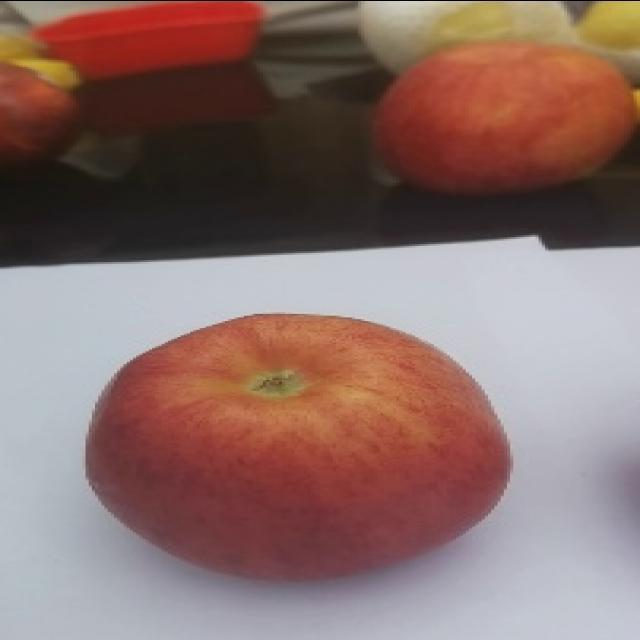Apple: (84, 311, 512, 583), (371, 38, 637, 196)
